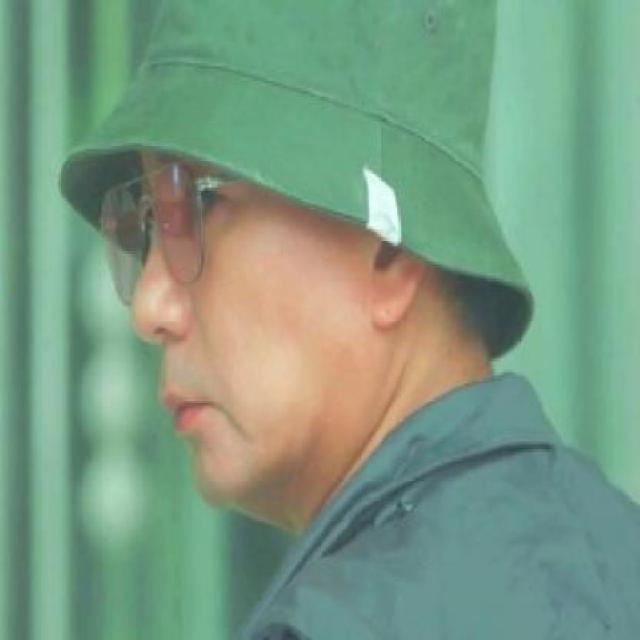hat: (58, 1, 534, 362)
